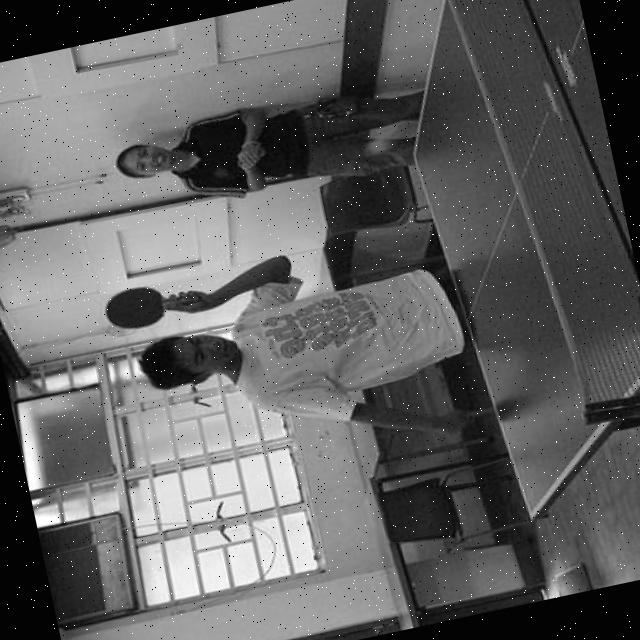ping-pong-ball: (362, 134, 394, 156)
